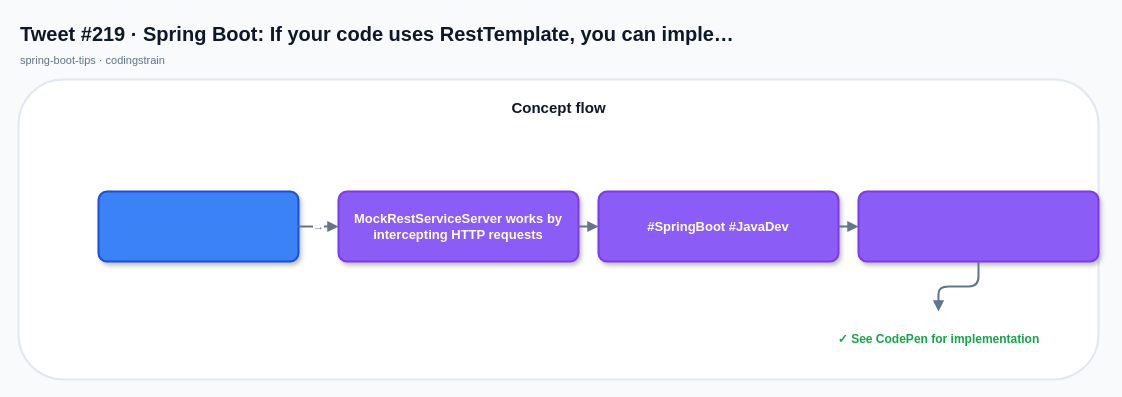
The diagram is 1122 pixels wide and 397 high, and some of its shapes have lost their labels. Here are the shapes that lost their labels. From the top down, the centre of each, then its label:
At [199,227]: "Problem / context".
At [979,227]: "Runnable sample: `spring-boot-tips`".
